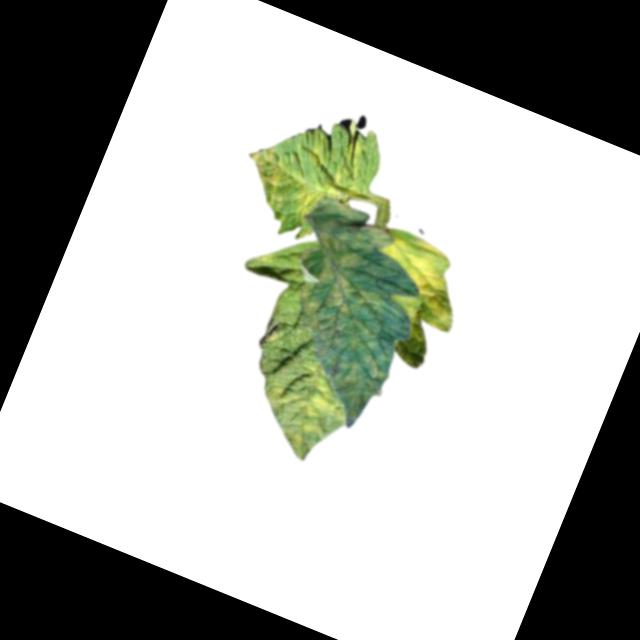Leaf_Mold: (274, 210, 435, 392), (230, 88, 379, 240), (245, 349, 361, 470), (358, 224, 478, 335)
